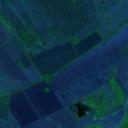alloviz: (74, 102, 90, 117)
